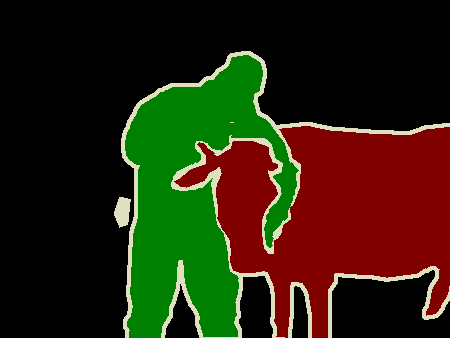cow: (173, 120, 450, 337)
person: (124, 53, 268, 338)
